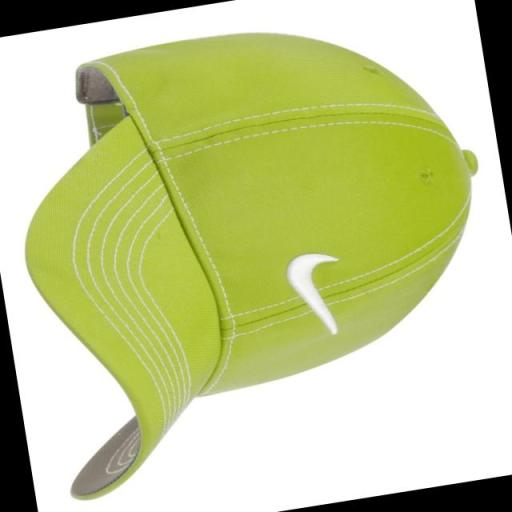Nike: (280, 248, 345, 344)
